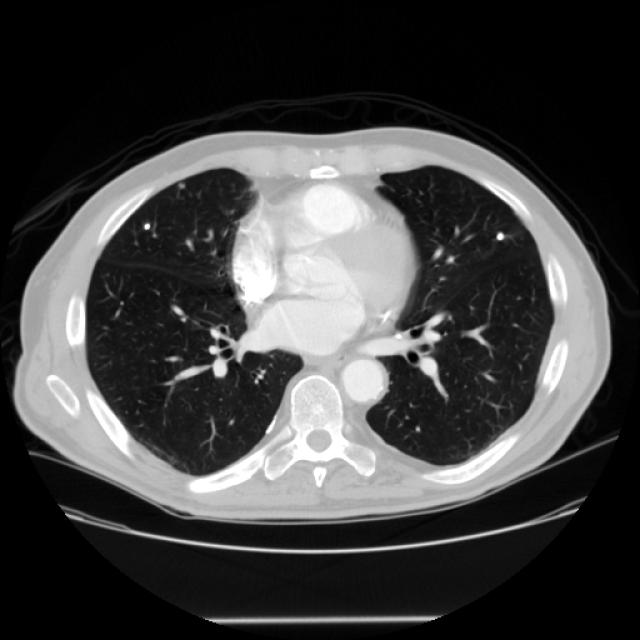nodule: (488, 224, 510, 246)
